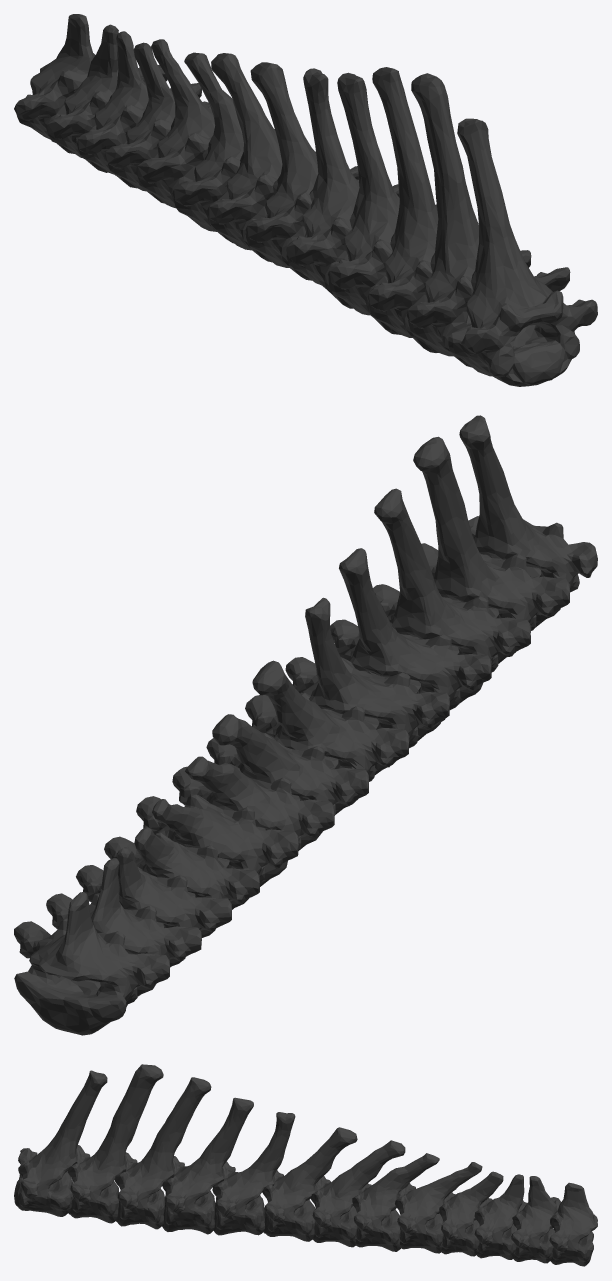
The model's file is Skeleton_17_LP.glb.
The picture shows the model from 3 angles, top to bottom: view 1: azimuth 30°, elevation 25°; view 2: azimuth 150°, elevation 25°; view 3: azimuth 270°, elevation 25°; orthographic projection. The views are drawn at different scales.
Parts seen in each view (by area): view 1: Skeleton_17_LP; view 2: Skeleton_17_LP; view 3: Skeleton_17_LP.
Part boxes in pixels (x1,y1,x2,y2): Skeleton_17_LP: [14, 14, 597, 386]; Skeleton_17_LP: [14, 415, 597, 1035]; Skeleton_17_LP: [14, 1064, 597, 1266].
Bounding box in the file's own units: 15.63 × 29.93 × 80.3.
Materials: 1 (1 with a texture image).
